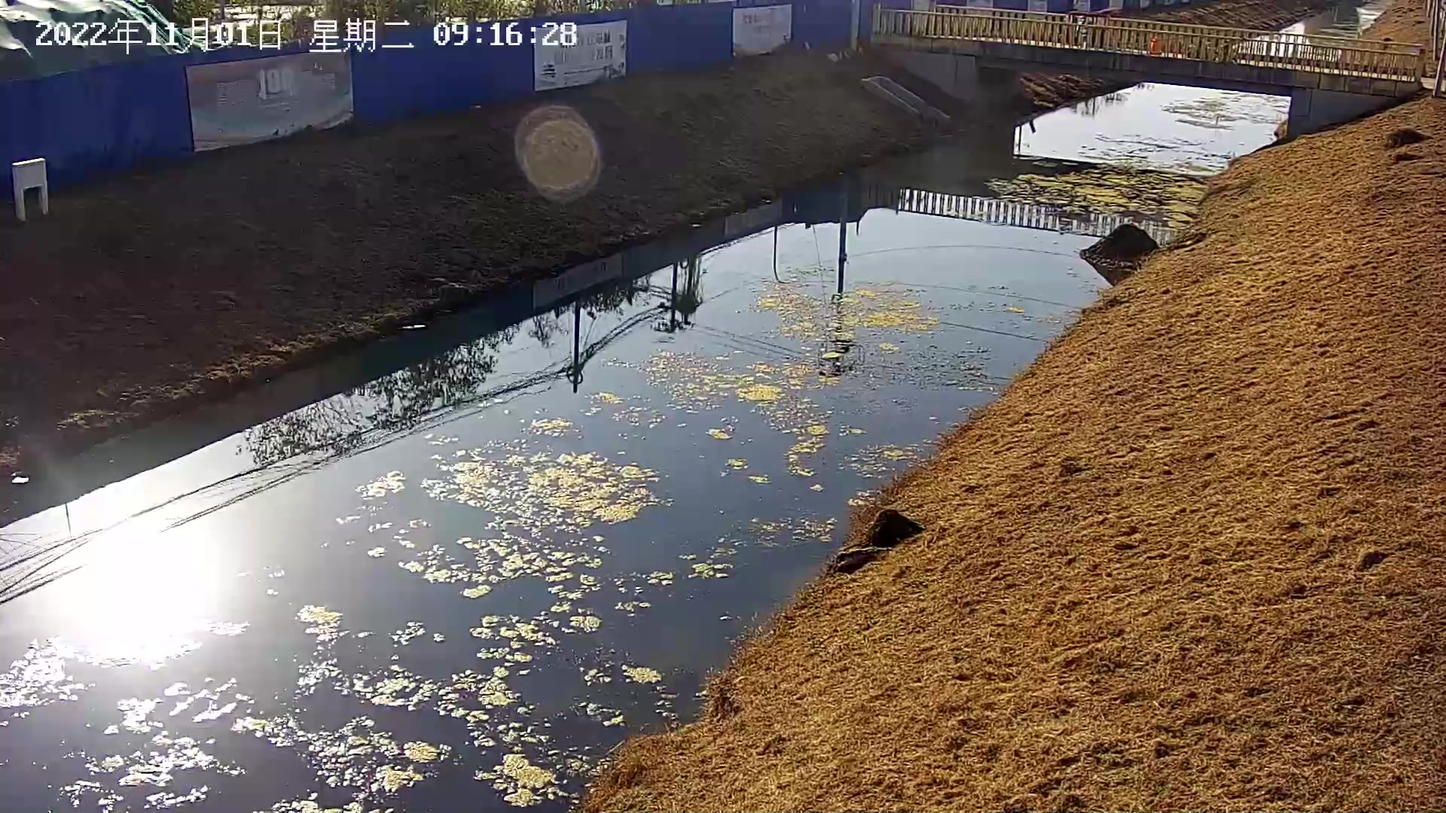floater: (432, 598, 600, 744), (638, 352, 824, 456), (63, 697, 240, 805), (423, 449, 657, 517), (229, 717, 434, 788), (756, 270, 929, 348), (293, 604, 430, 702), (991, 167, 1201, 228), (399, 544, 601, 595), (1, 637, 105, 707), (477, 756, 563, 810), (159, 678, 239, 719), (1164, 96, 1245, 131), (273, 790, 389, 813), (852, 439, 915, 478), (615, 571, 674, 612), (754, 521, 836, 544), (357, 468, 400, 498), (725, 461, 769, 485), (689, 559, 731, 582), (529, 419, 567, 437), (624, 664, 662, 682), (590, 394, 617, 406), (368, 544, 386, 559)
